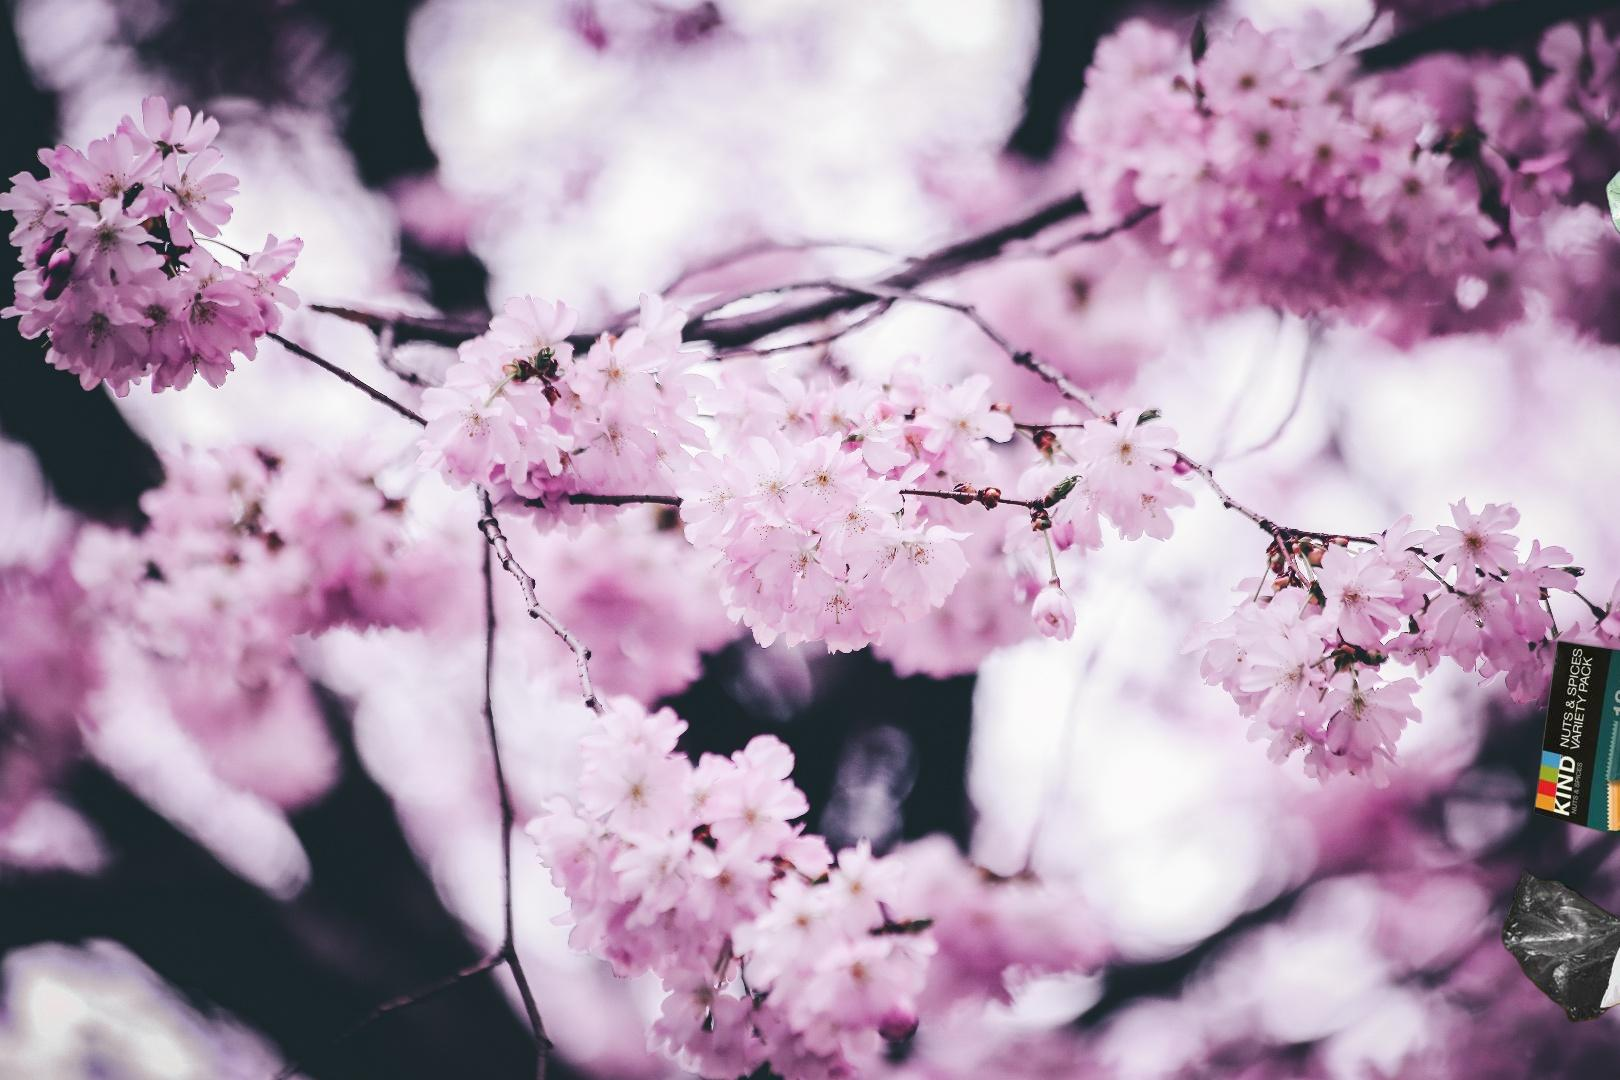metal-cans: (1602, 148, 1620, 275)
paper: (1530, 628, 1620, 908)
plastic-bag: (1499, 865, 1620, 1025)
